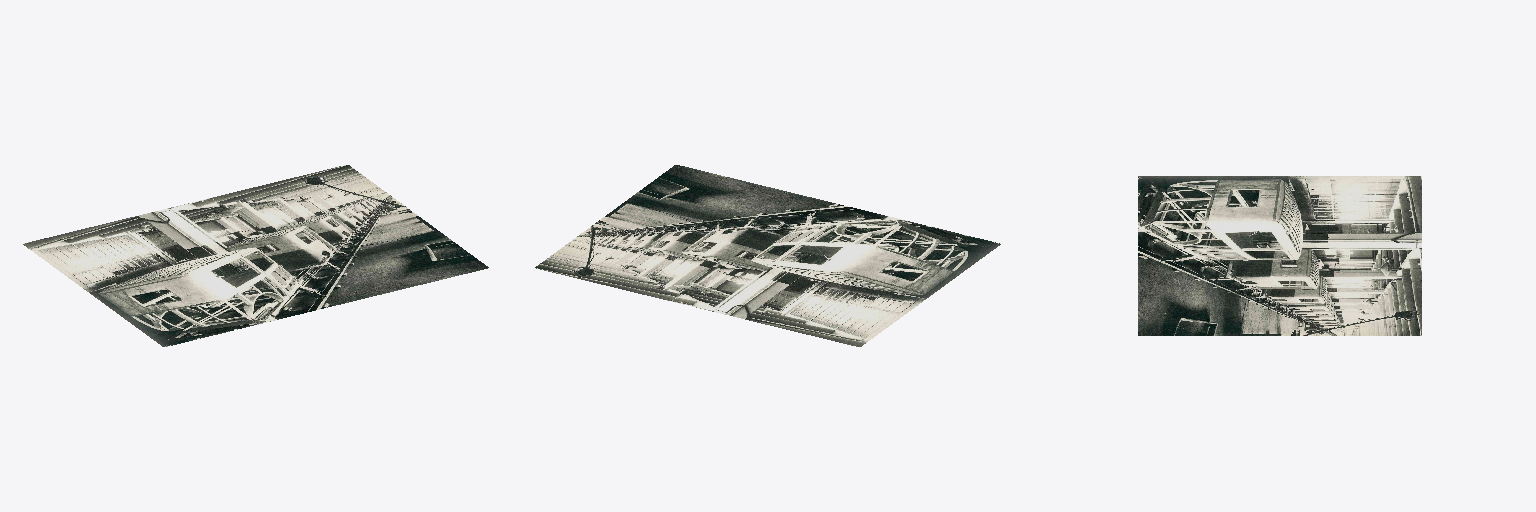
The picture shows the model from 3 angles: view 1: azimuth 30°, elevation 25°; view 2: azimuth 150°, elevation 25°; view 3: azimuth 270°, elevation 25°; orthographic projection.
Parts seen in each view (by area): view 1: Plane001; view 2: Plane001; view 3: Plane001.
Part boxes in pixels (x1,y1,x2,y2): Plane001: (23,165,488,346); Plane001: (535,165,1000,346); Plane001: (1138,176,1421,335).
Size of the model in its own units: 12.47 by 0 by 9.39.
Materials: 1 (1 with a texture image).